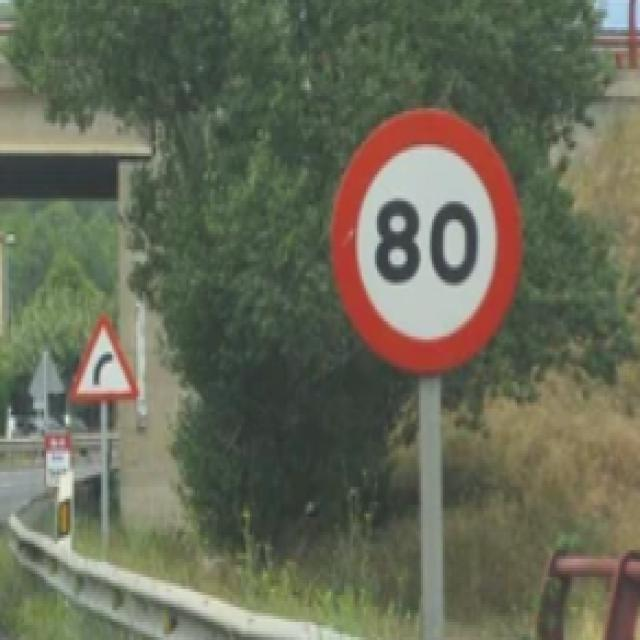speed_80: (330, 106, 523, 376)
